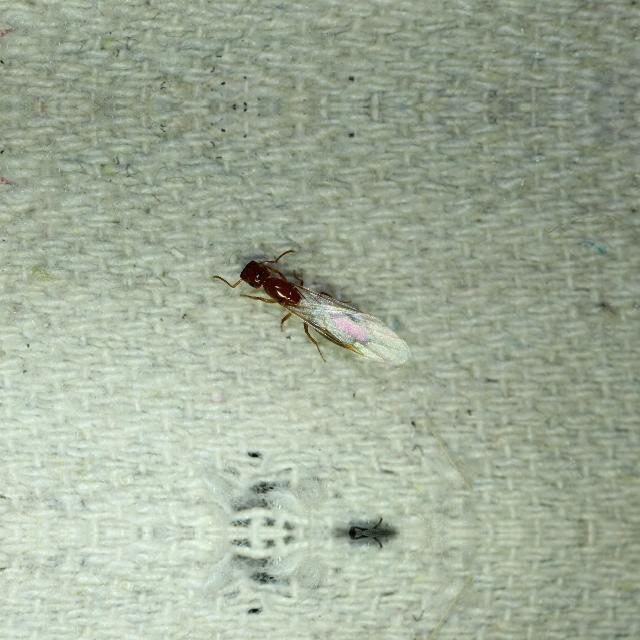Colobopsis: (215, 248, 418, 362), (335, 516, 415, 532), (335, 534, 415, 548)
